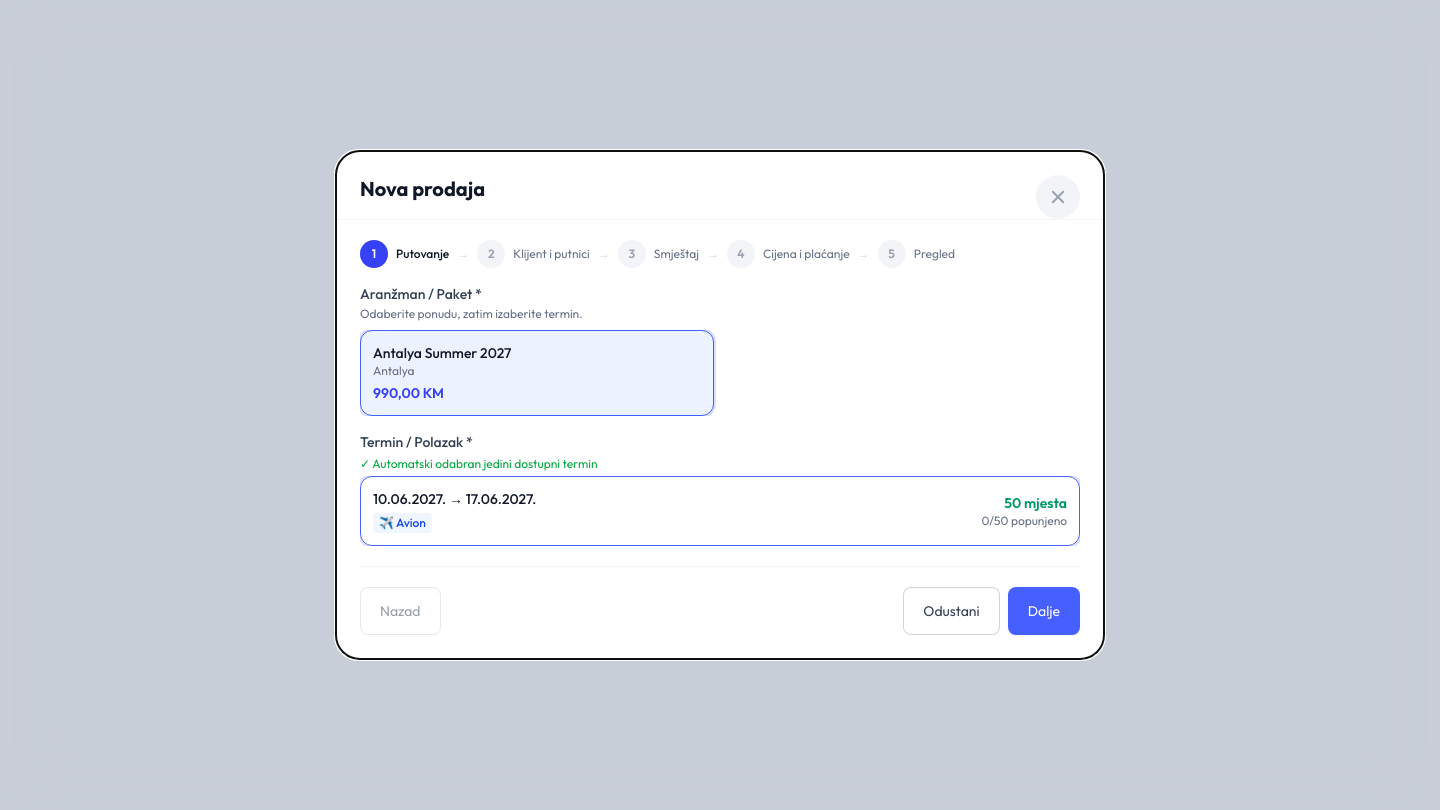
NewSaleWizard accommodation flow › does not create a duplicate line when the same option is re-selected after adding a line
This screenshot has width=1440, height=810.
Expected: the text "Antalya Summer 2027" is shown, [373,344,511,362]
Click the button "Dalje": (1044,611) [1008,587,1080,635]
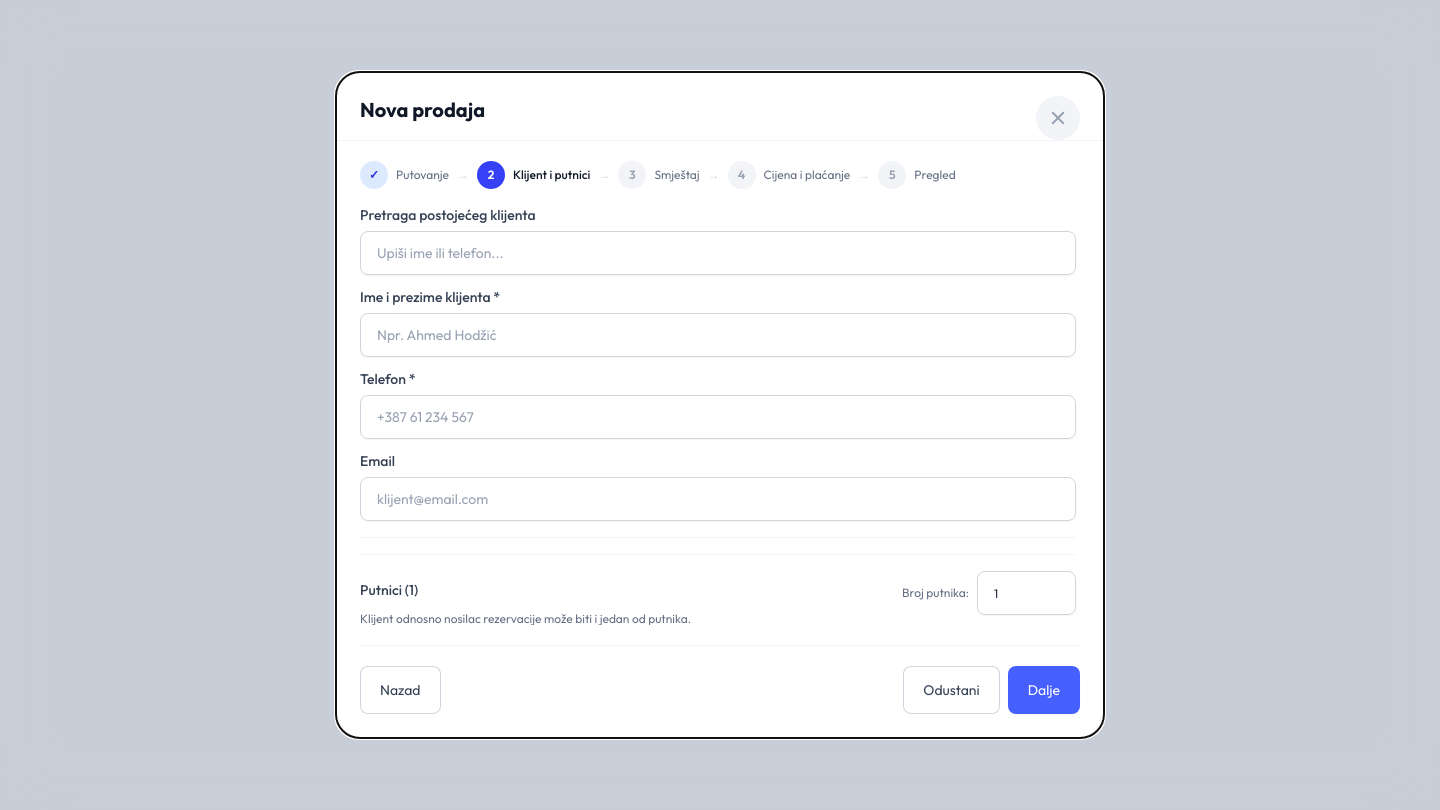
In the field with placeholder "Npr. Ahmed Hodžić": (718,335) [360,313,1076,357], type "Amina Hadžić"
In the field with placeholder "+387 61 234 567": (718,417) [360,395,1076,439], type "+38761100001"
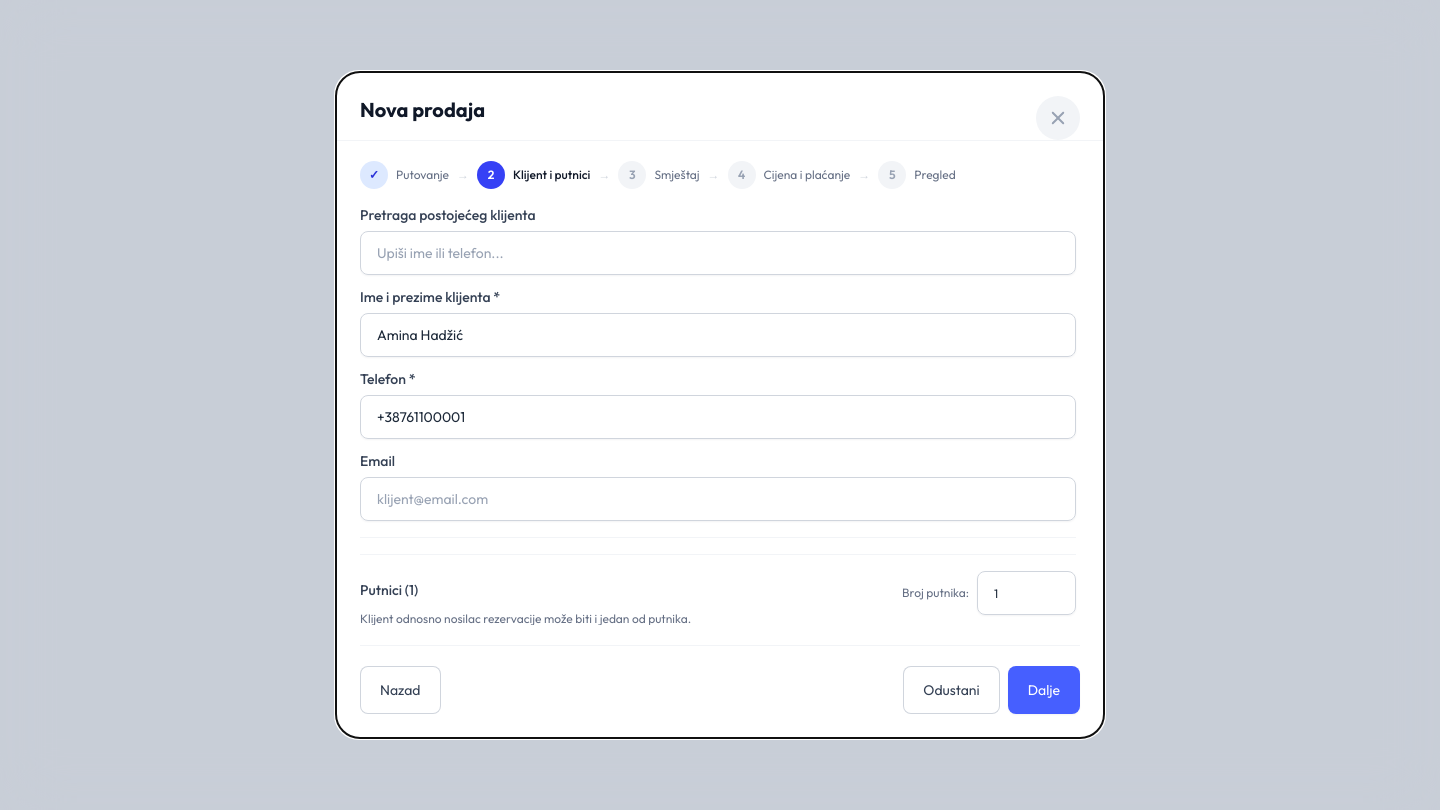
Click the button "Dalje": (1044,690) [1008,666,1080,714]
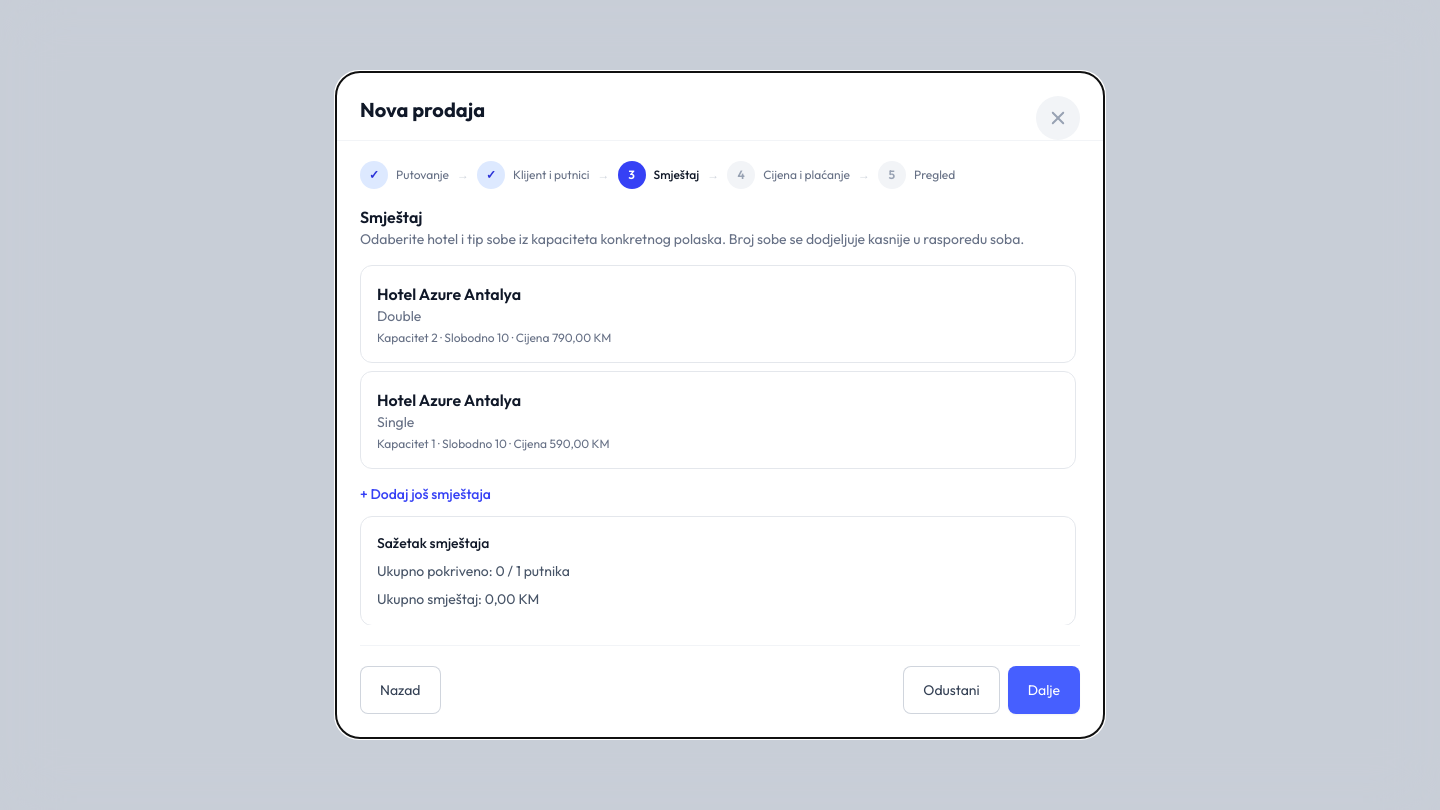
Click the button "Hotel Azure Antalya": (449,294) [360,265,1076,363]
(page scrolled)
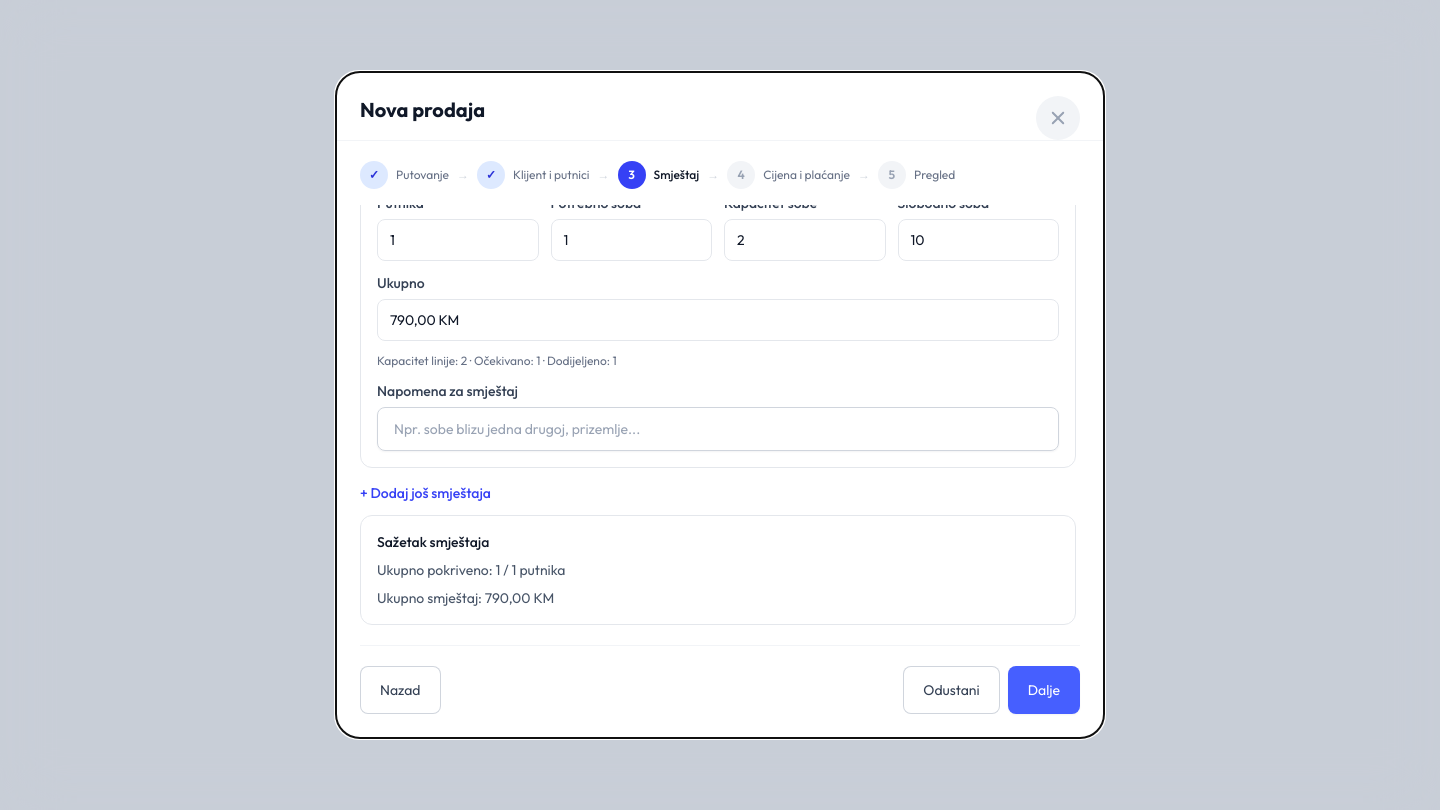
Click the button "+ Dodaj još smještaja": (425,493) [360,483,491,503]
(page scrolled)
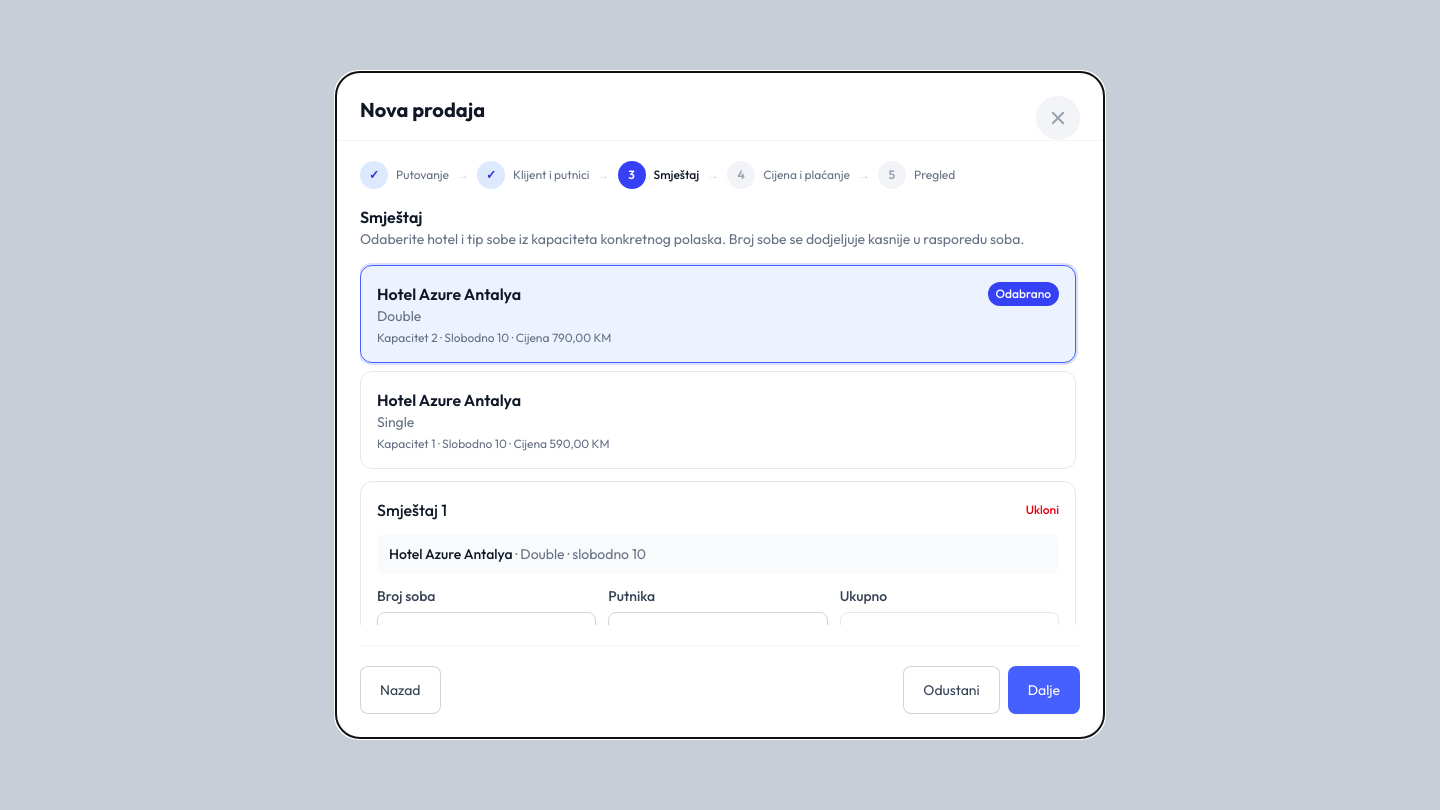
Click the button "Hotel Azure Antalya": (449,294) [360,265,1076,363]
(page scrolled)
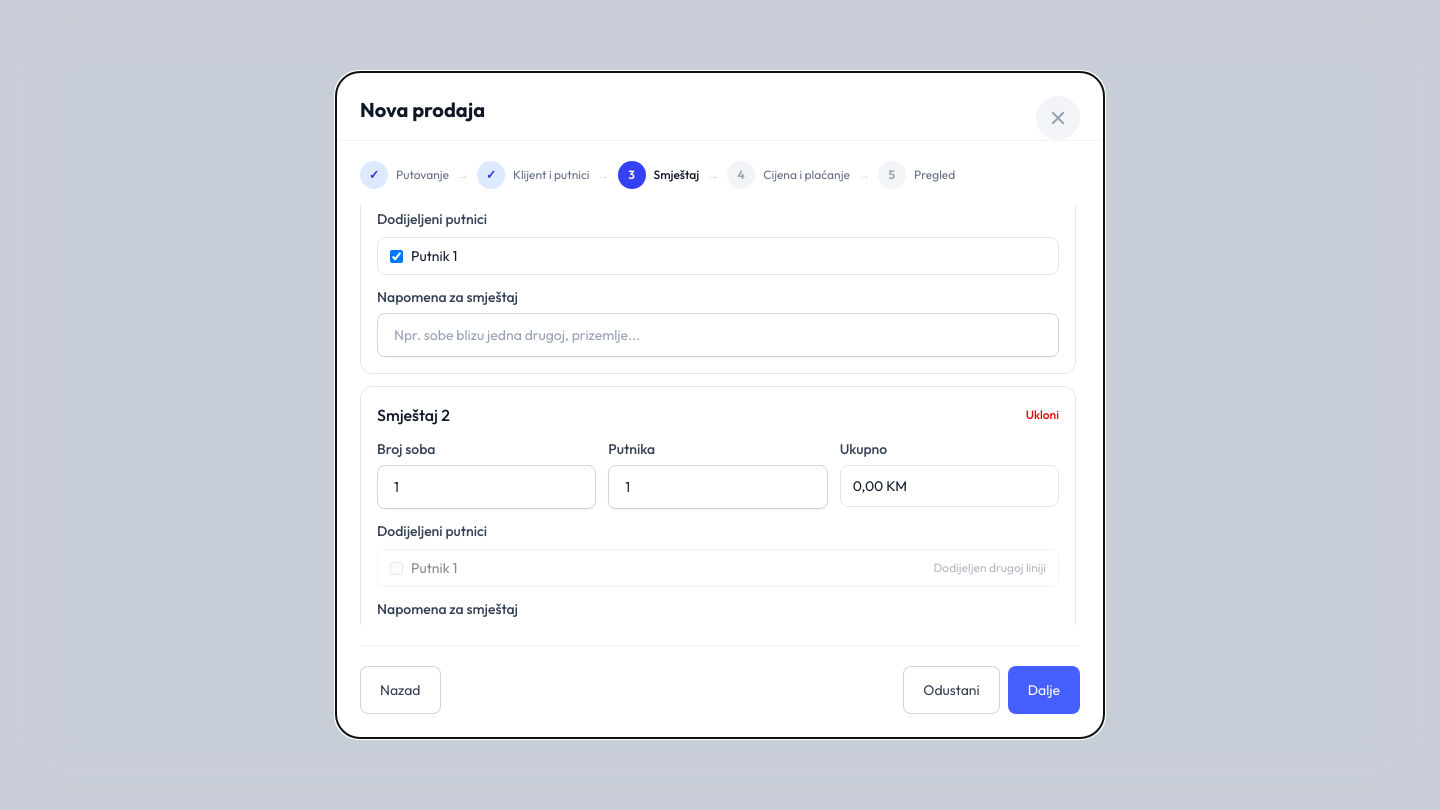
Expected: the heading "Smještaj 2" is shown, [377,403,450,427]
